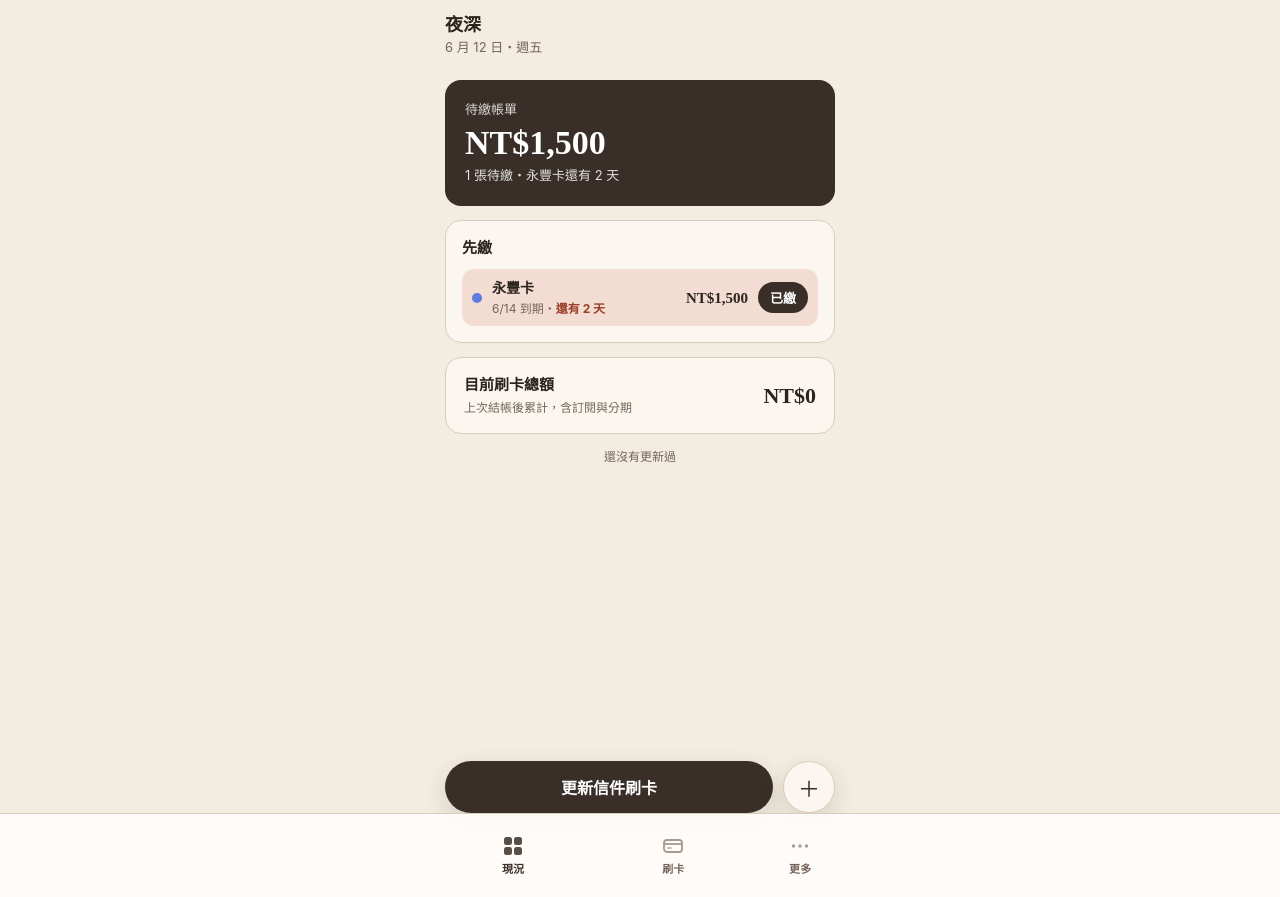
Test: 最近 7 個月趨勢 › 顯示完整七個月，包含沒有消費的月份
Click the button "更多": click(800, 856) [754,824,847,888]
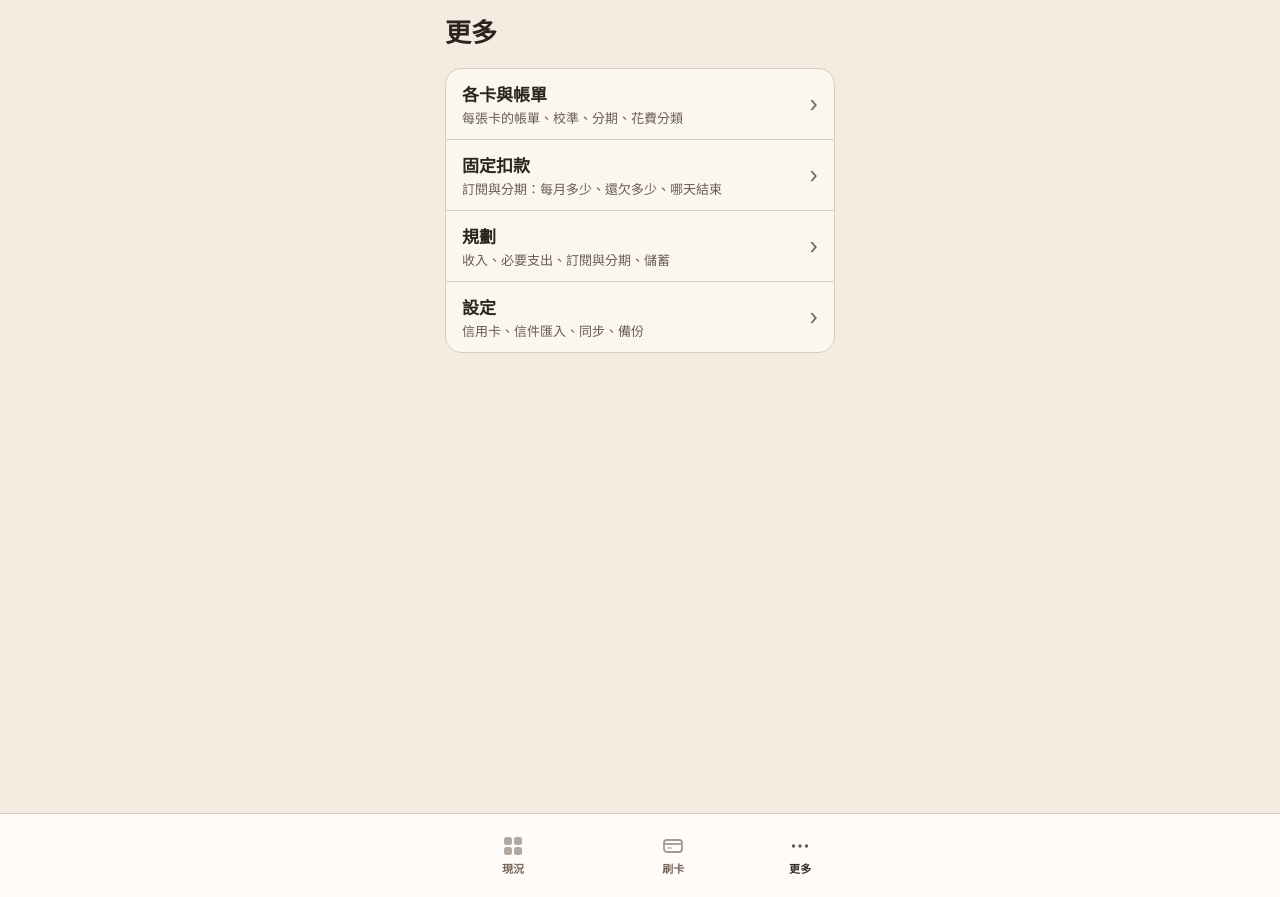
Click the button "各卡與帳單 每張卡的帳單、校準、分期、花費分類 ›": click(504, 95) [446,69,834,139]
(page scrolled)
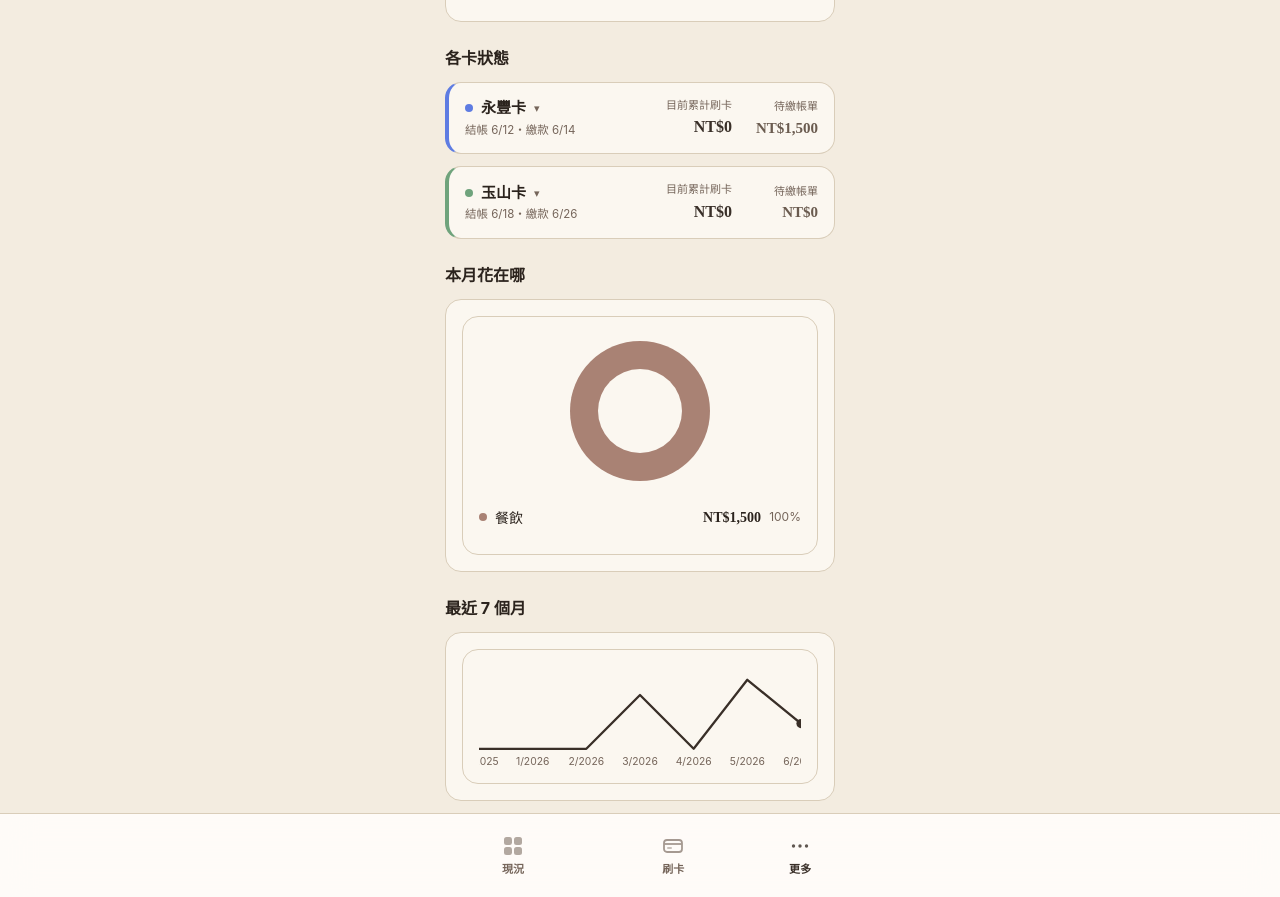
Check: the element with class "section" shows "12/2025", box [459,755,499,767]
Check: the element with class "section" shows "3/2026", box [622,755,658,767]
Check: the element with class "section" shows "6/2026", box [783,755,819,767]
